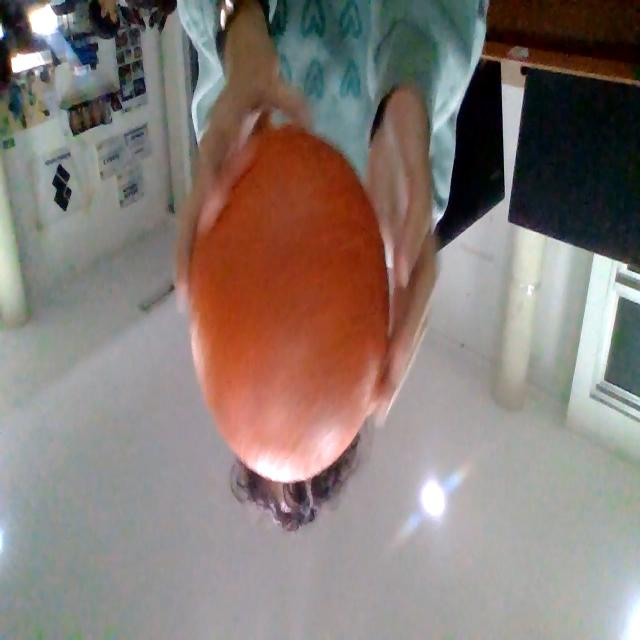ball: (187, 126, 391, 486)
